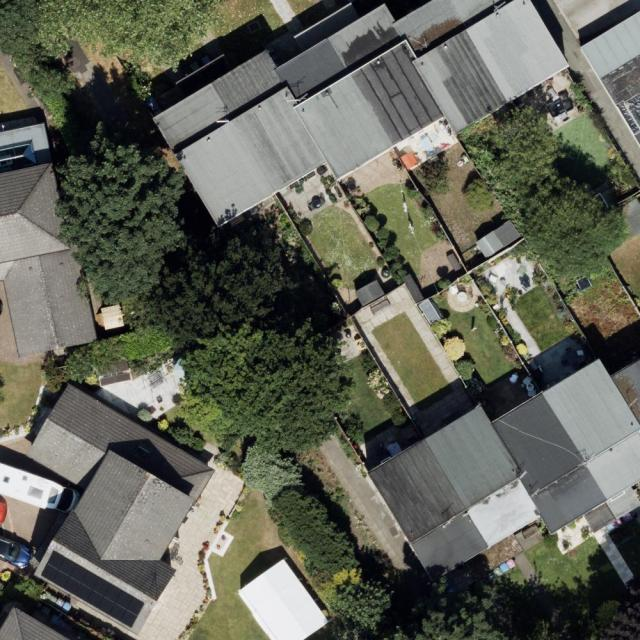roof: (152, 0, 570, 227), (367, 358, 640, 582), (25, 381, 216, 635), (0, 123, 96, 358), (579, 10, 640, 150), (0, 605, 74, 640)
skylight: (0, 141, 39, 173)
solar: (42, 549, 144, 628)
